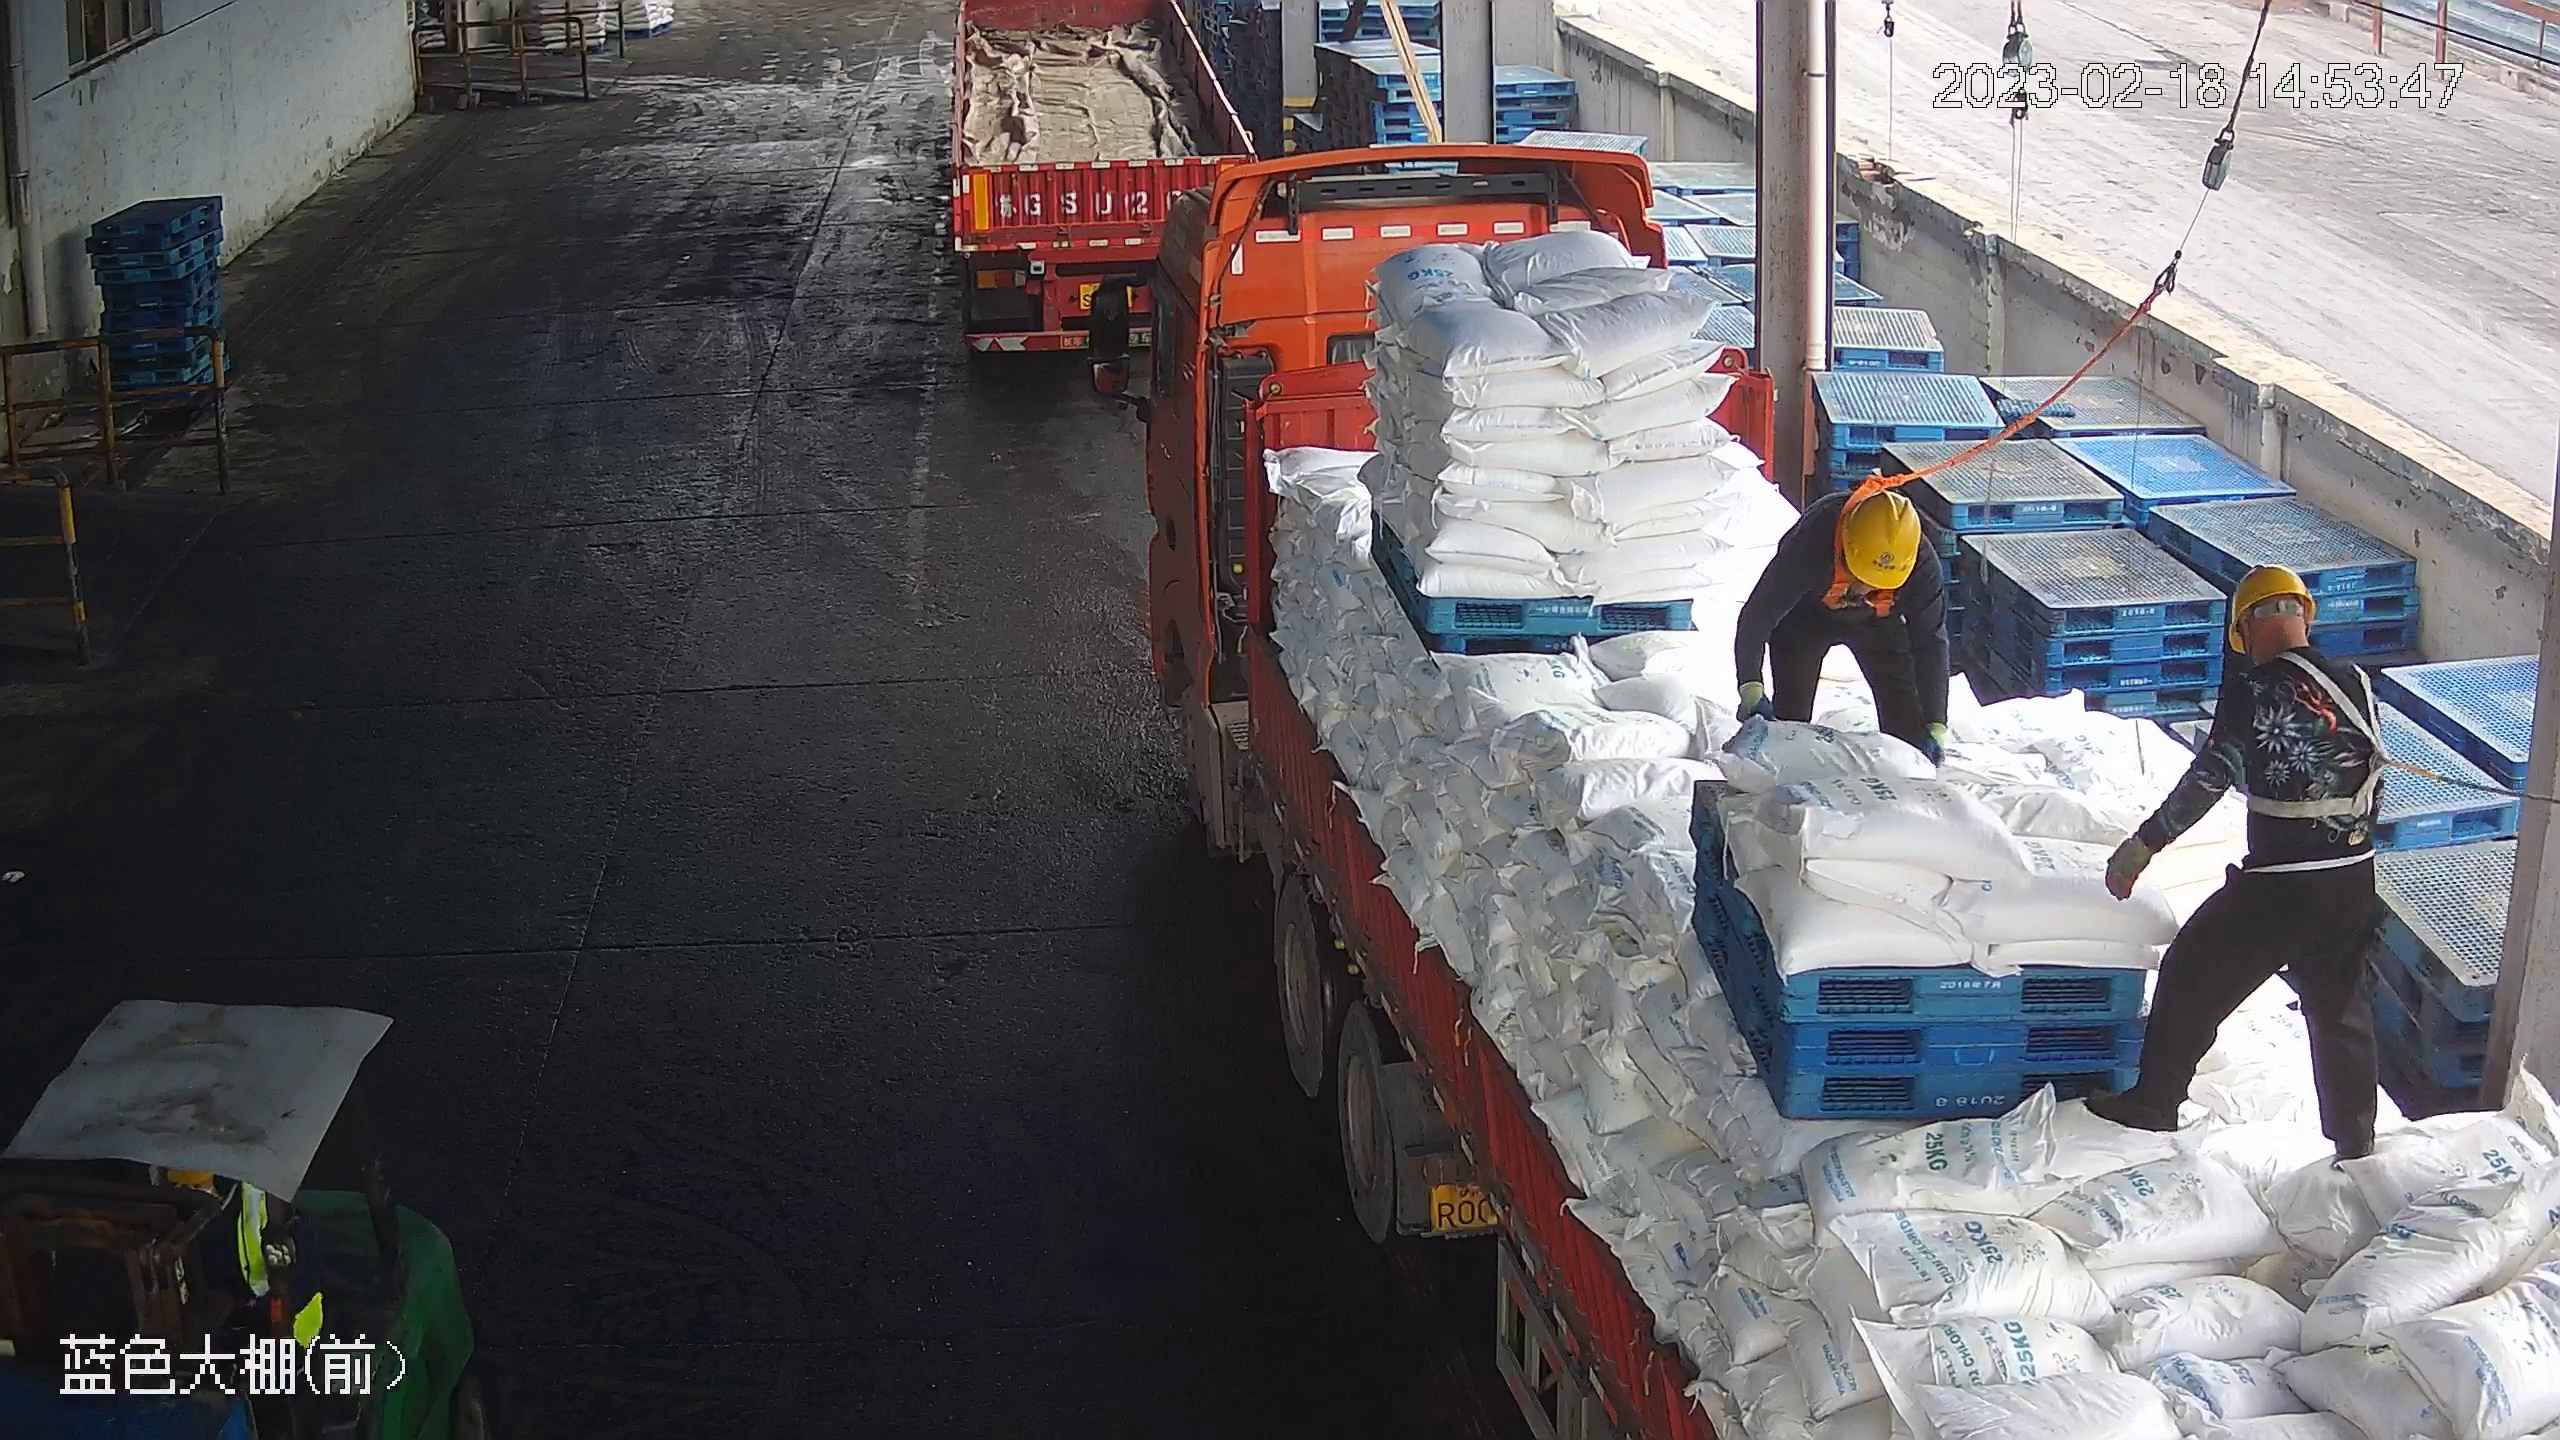belt: (2263, 660, 2393, 838)
head: (2207, 561, 2375, 732), (1797, 485, 1944, 613)
helmet: (2217, 559, 2316, 646), (1837, 492, 1920, 590)
people: (2093, 559, 2390, 1170), (1731, 482, 1957, 768)
truck: (1145, 155, 2555, 1435), (903, 1, 1285, 351)
